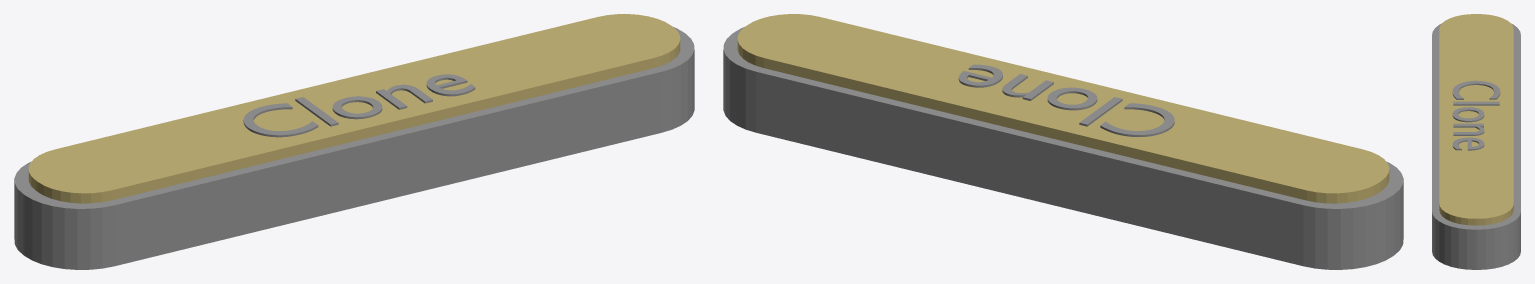
File: Duplicate Button.fbx
3 renders of one model, left to right at view 1: azimuth 30°, elevation 25°; view 2: azimuth 150°, elevation 25°; view 3: azimuth 270°, elevation 25°, orthographic. The views are drawn at different scales.
Visible parts, largest first — view 1: Delete-Done Controller, Duplicate Button, Clone Text; view 2: Delete-Done Controller, Duplicate Button, Clone Text; view 3: Duplicate Button, Delete-Done Controller, Clone Text.
Part boxes in pixels (left/top/right/bottom): Delete-Done Controller: left=14, top=27, right=694, bottom=269; Duplicate Button: left=28, top=14, right=680, bottom=203; Clone Text: left=243, top=74, right=475, bottom=137; Delete-Done Controller: left=723, top=27, right=1403, bottom=269; Duplicate Button: left=737, top=14, right=1389, bottom=203; Clone Text: left=958, top=64, right=1174, bottom=136; Duplicate Button: left=1439, top=14, right=1513, bottom=225; Delete-Done Controller: left=1432, top=23, right=1520, bottom=269; Clone Text: left=1452, top=80, right=1500, bottom=150.
Size of the model in its own units: 170 by 18 by 30.
